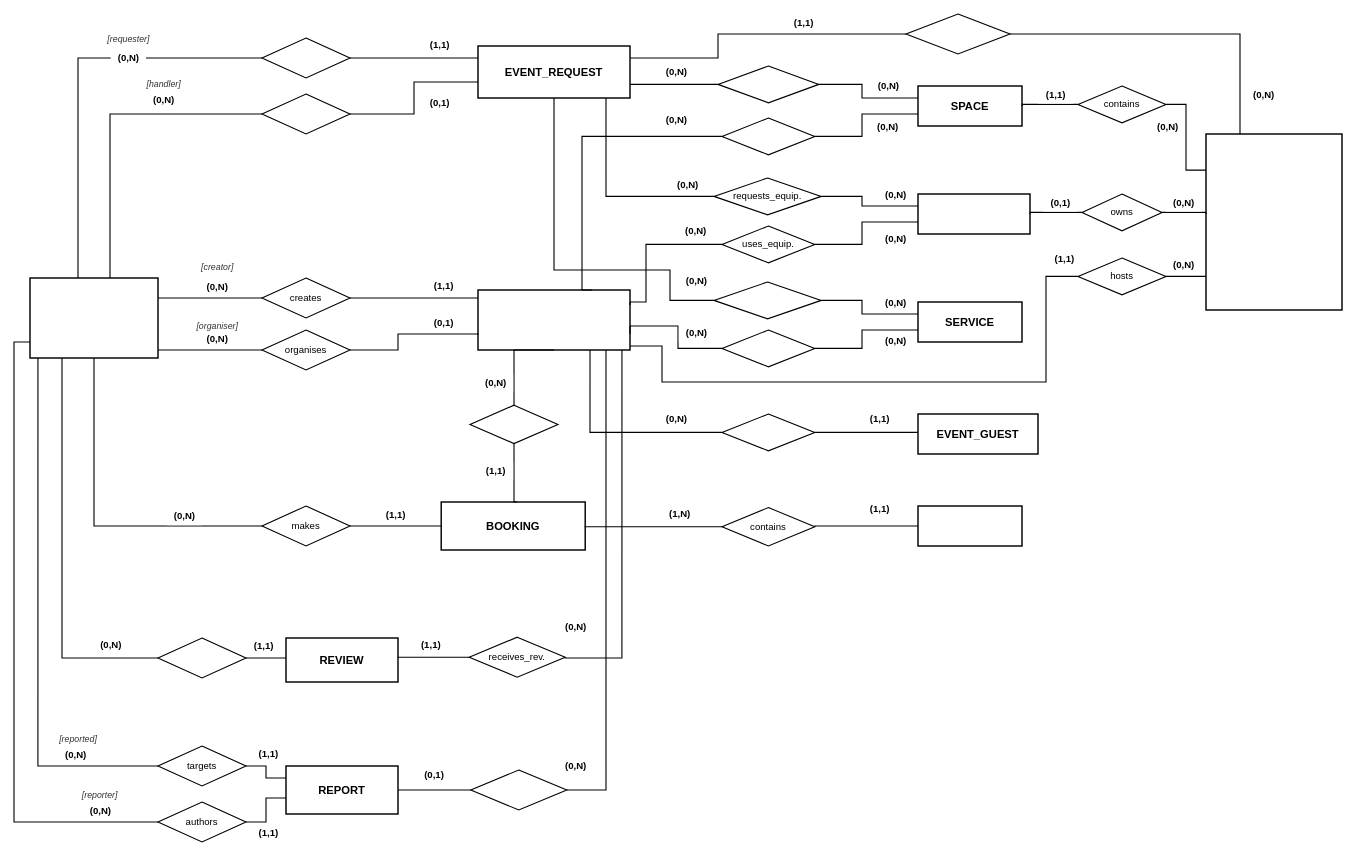
This 1357x857 diagram has some shape labels left out. Here are the shapes that lost their labels. From the top down, the box of each, then its label:
(905, 13, 1010, 54): requested_for
(261, 37, 350, 78): submits
(717, 65, 819, 103): requests_space
(261, 93, 350, 134): handles
(721, 117, 815, 155): uses_space
(917, 193, 1030, 234): EQUIPMENT
(1205, 133, 1342, 310): VENUE
(29, 277, 158, 358): USER
(477, 289, 630, 350): EVENT
(713, 281, 821, 319): requests_serv.
(721, 329, 815, 367): uses_serv.
(469, 404, 558, 444): receives
(721, 413, 815, 451): invites
(917, 505, 1022, 546): TICKET
(157, 637, 246, 678): writes
(470, 769, 567, 810): refers_to
